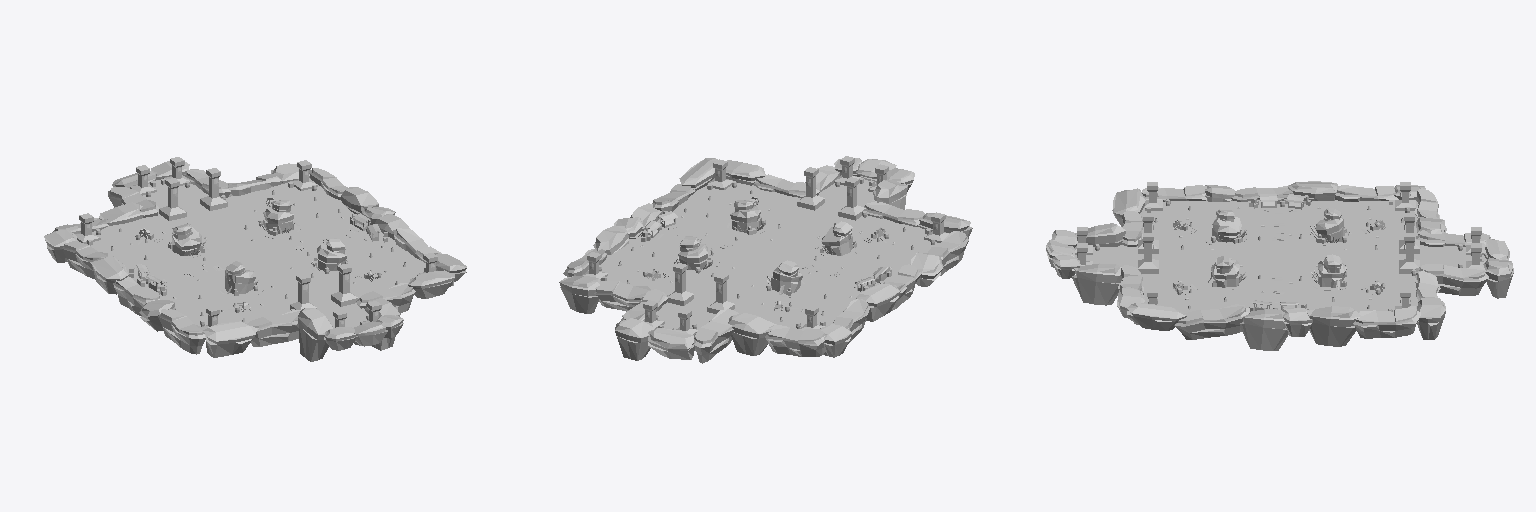
The model's file is arena_4_pillars_output_object.obj.
3 views of the same model, side by side, from view 1: azimuth 30°, elevation 25°; view 2: azimuth 150°, elevation 25°; view 3: azimuth 270°, elevation 25° (orthographic).
Parts seen in each view (by area): view 1: Plane.060_Plane.2001, Cube.002_Cube.008, Plane.013_Plane.015, Plane.016_Plane.018, Plane.014_Plane.016, Plane.012_Plane.014, Cube.001_Cube.007, Cube.004_Cube.011, Plane.001, Plane.028_Plane.037, Plane.002_Plane.004, Plane.000 (+13 smaller); view 2: Plane.060_Plane.2001, Cube.002_Cube.008, Plane.006_Plane.008, Cube.001_Cube.007, Plane.007_Plane.009, Plane.008_Plane.010, Plane.010_Plane.012, Plane.011_Plane.013, Plane.023_Plane.032, Plane.021_Plane.030, Cube.004_Cube.011, Plane.000 (+16 smaller); view 3: Plane.060_Plane.2001, Plane.027_Plane.036, Cube.002_Cube.008, Plane.018_Plane.021, Plane.024_Plane.033, Plane.022_Plane.031, Plane.026_Plane.035, Plane.009_Plane.011, Plane.029_Plane.041, Cube.001_Cube.007, Cube.004_Cube.011, Plane.023_Plane.032 (+13 smaller).
Boxes of the visible parts, <box> form: Plane.060_Plane.2001: <box>77,180,425,327</box>; Cube.002_Cube.008: <box>159,168,357,309</box>; Plane.013_Plane.015: <box>203,321,256,357</box>; Plane.016_Plane.018: <box>298,308,332,361</box>; Plane.014_Plane.016: <box>248,310,300,346</box>; Plane.012_Plane.014: <box>158,309,205,354</box>; Cube.001_Cube.007: <box>75,160,437,328</box>; Cube.004_Cube.011: <box>130,157,381,327</box>; Plane.001: <box>113,277,161,315</box>; Plane.028_Plane.037: <box>408,270,455,298</box>; Plane.002_Plane.004: <box>62,241,108,279</box>; Plane.000: <box>91,255,128,294</box>; Plane.060_Plane.2001: <box>588,179,938,329</box>; Cube.002_Cube.008: <box>667,167,865,313</box>; Plane.006_Plane.008: <box>765,324,824,356</box>; Cube.001_Cube.007: <box>582,159,949,330</box>; Plane.007_Plane.009: <box>728,313,775,355</box>; Plane.008_Plane.010: <box>693,309,738,363</box>; Plane.010_Plane.012: <box>648,328,694,359</box>; Plane.011_Plane.013: <box>615,318,654,360</box>; Plane.023_Plane.032: <box>559,276,600,313</box>; Plane.021_Plane.030: <box>594,281,650,311</box>; Cube.004_Cube.011: <box>643,156,888,334</box>; Plane.000: <box>856,283,900,321</box>; Plane.060_Plane.2001: <box>1075,200,1486,312</box>; Plane.027_Plane.036: <box>1174,304,1249,339</box>; Cube.002_Cube.008: <box>1138,213,1419,273</box>; Plane.018_Plane.021: <box>1072,263,1121,305</box>; Plane.024_Plane.033: <box>1307,306,1360,346</box>; Plane.022_Plane.031: <box>1353,307,1420,338</box>; Plane.026_Plane.035: <box>1240,309,1287,350</box>; Plane.009_Plane.011: <box>1415,264,1488,295</box>; Plane.029_Plane.041: <box>1127,303,1186,330</box>; Cube.001_Cube.007: <box>1144,182,1415,309</box>; Cube.004_Cube.011: <box>1074,227,1485,269</box>; Plane.023_Plane.032: <box>1417,297,1445,339</box>.
Size of the model in its own units: 284 by 60.28 by 398.